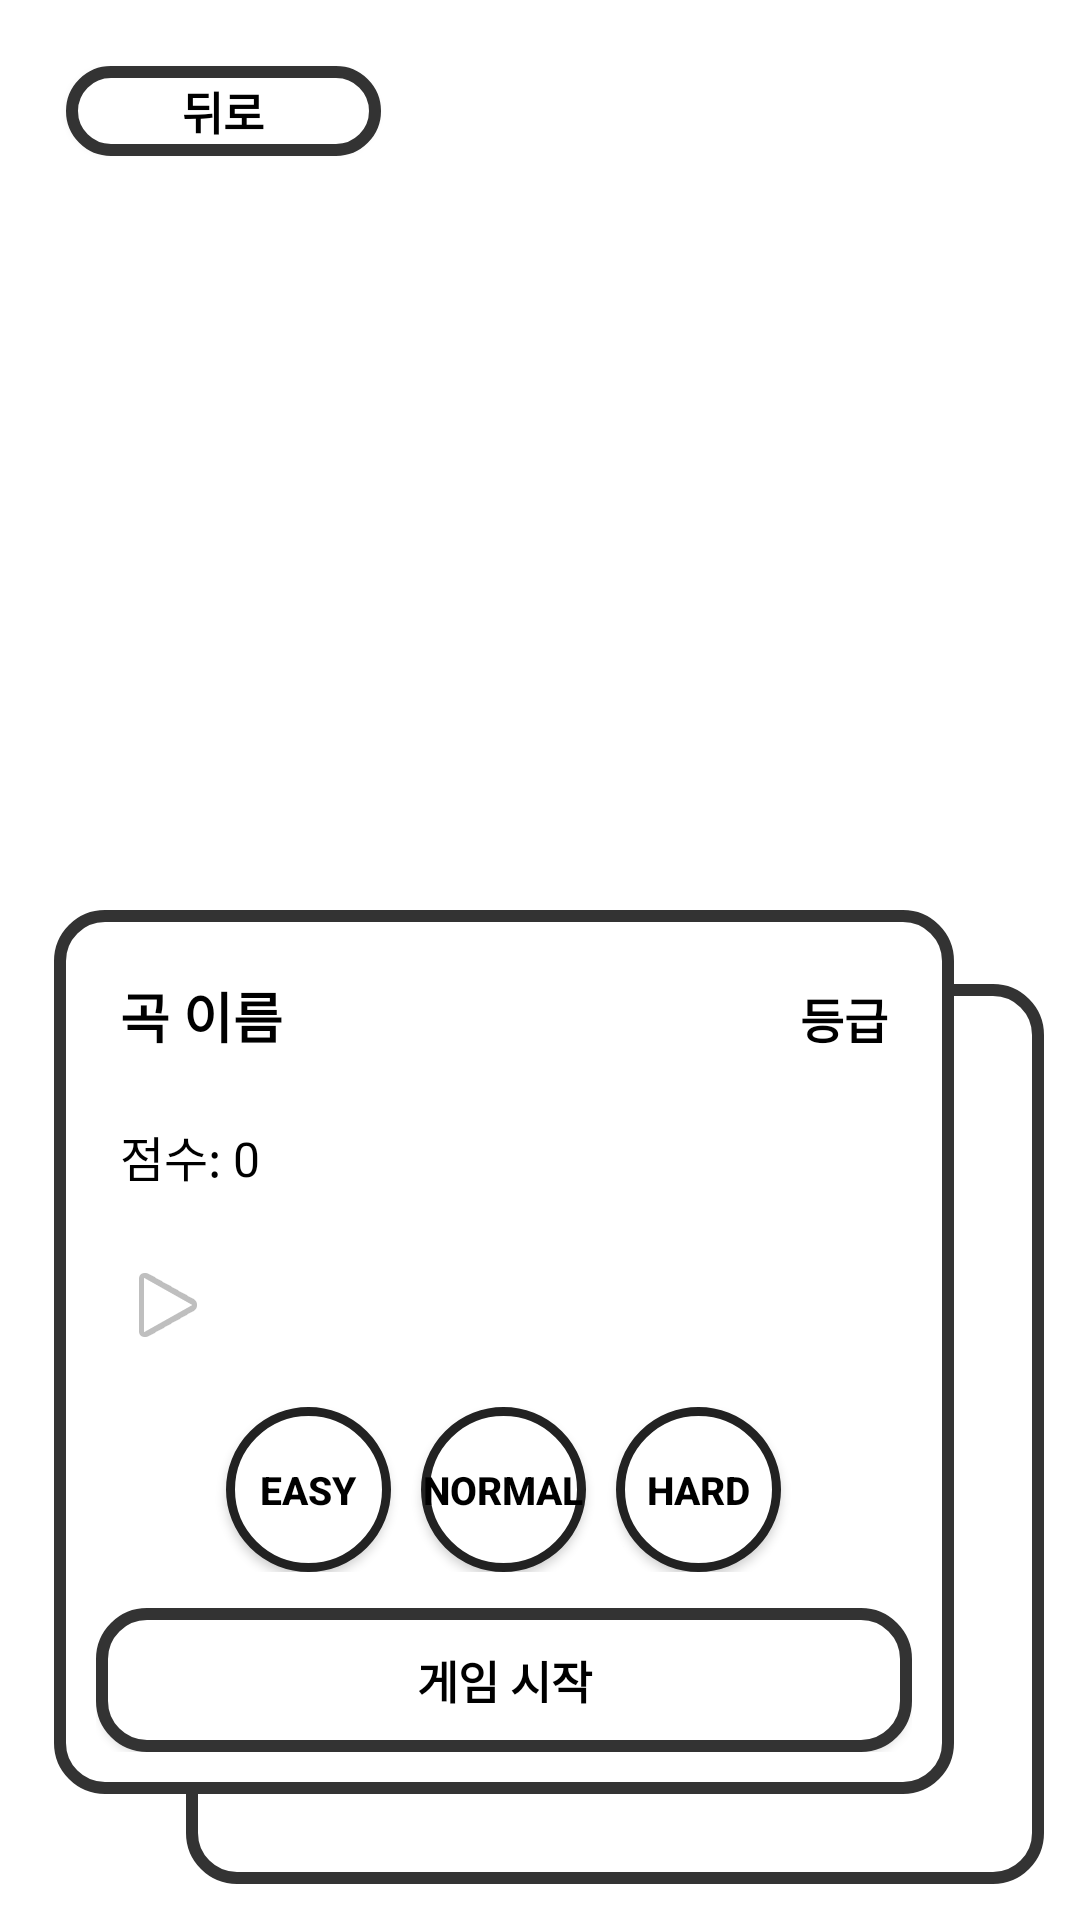

Named icons in this screenshot (1080px×1920px) and their centers, point (x, y):
재생/일시정지: point (168, 1305)
